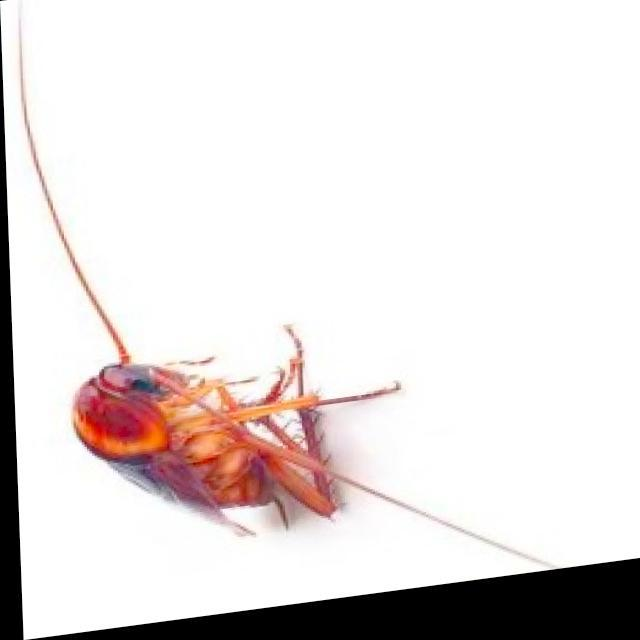cockroach: (61, 326, 374, 547)
